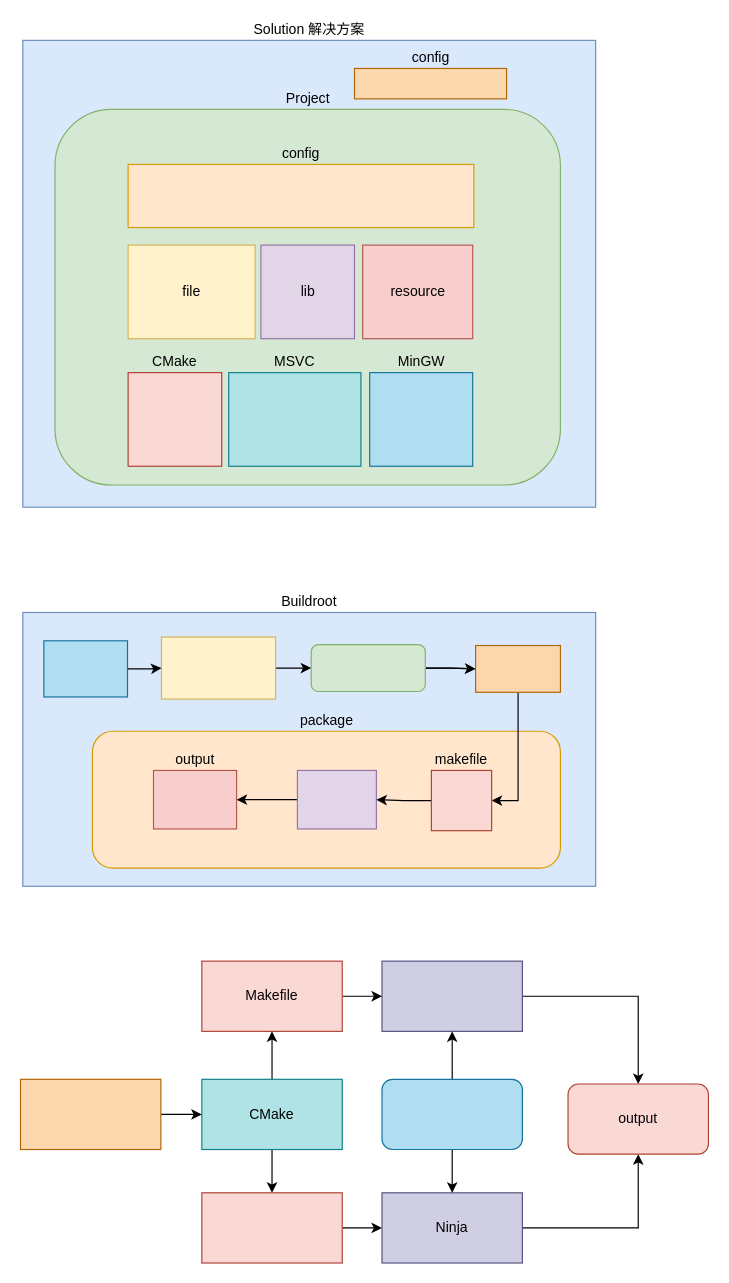
This 729x1283 diagram has some shape labels left out. The centre of each missing label's shape, as x and y in pixels:
".config" belongs at (517,668).
".Ninja" belongs at (271,1227).
"CMakeLists" belongs at (90,1114).
"download" belongs at (85,668).
"kconfig" belongs at (218,667).
"Make" belongs at (451,995).
"menuconfig" belongs at (367,667).
"src" belongs at (451,1114).
"toolchain" belongs at (336,799).
